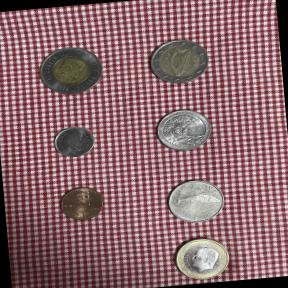1 Euro-B: (163, 225, 240, 286)
2 Euro-B: (141, 29, 220, 91)
Canada-10cent-B: (44, 120, 101, 165)
Canada-2Dollar-B: (26, 36, 114, 103)
Croatia-2Kune-B: (158, 170, 230, 230)
US-1cent-B: (52, 179, 110, 226)
US-25cent-B: (146, 101, 224, 163)
